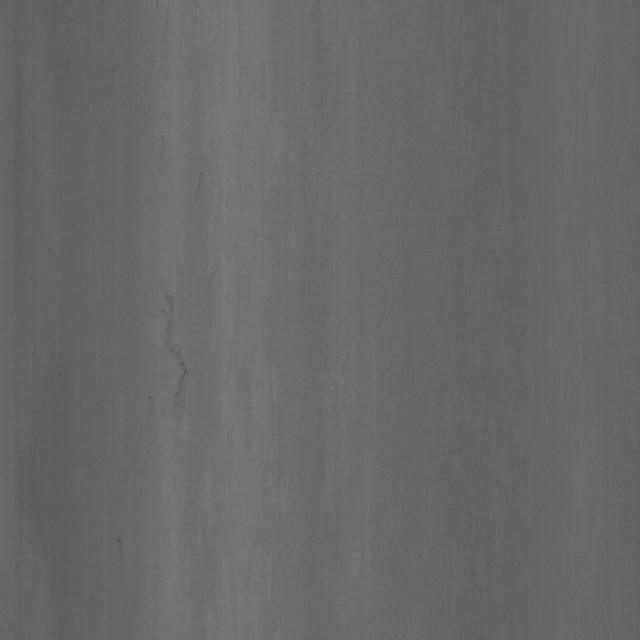water_spot: (152, 271, 201, 429)
